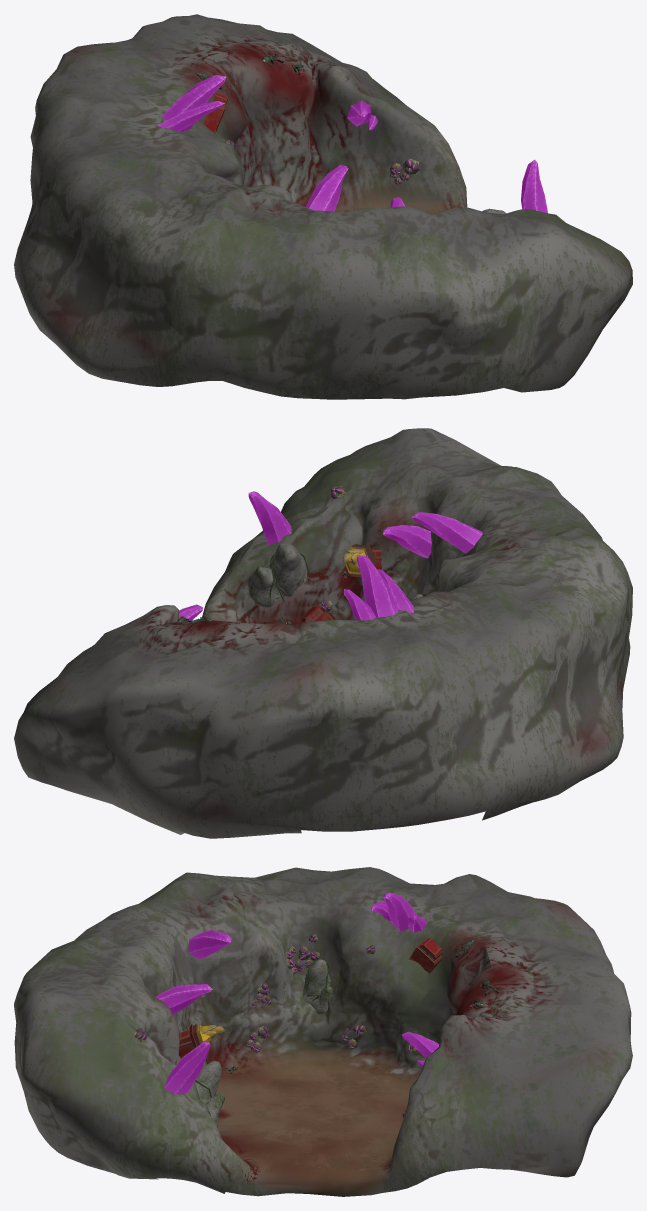
The model's file is Cueva_Oliver.fbx.
The picture shows the model from 3 angles, top to bottom: view 1: azimuth 30°, elevation 25°; view 2: azimuth 150°, elevation 25°; view 3: azimuth 270°, elevation 25°; orthographic projection. The views are drawn at different scales.
Parts seen in each view (by area): view 1: cave_low, cristal high, cristal high.006, cristal high.001, cristal high.005; view 2: cave_low, rock_low, cristal high.006, cristal high, cristal high.001, cristal high.002, Soportorreta_ignore.002; view 3: cave_low, cristal high.001, rock_low, rock_low.001, cristal high.002, cristal high, Soportorreta_ignore.002, cristal high.006, Soportorreta_ignore.003, cristal high.004.
Part boxes in pixels (x1,y1,x2,y2): cave_low: (14, 14, 632, 399); cristal high: (306, 165, 348, 211); cristal high.006: (161, 75, 225, 130); cristal high.001: (521, 159, 547, 213); cristal high.005: (157, 101, 224, 132); cave_low: (14, 428, 632, 838); rock_low: (247, 543, 307, 607); cristal high.006: (356, 555, 398, 617); cristal high: (412, 512, 482, 553); cristal high.001: (248, 491, 291, 545); cristal high.002: (383, 525, 431, 558); Soportorreta_ignore.002: (343, 544, 382, 577); cave_low: (14, 867, 632, 1196); cristal high.001: (164, 1041, 210, 1094); rock_low: (194, 1060, 224, 1127); rock_low.001: (303, 959, 332, 1014); cristal high.002: (156, 984, 212, 1014); cristal high: (188, 929, 231, 959); Soportorreta_ignore.002: (178, 1023, 224, 1058); cristal high.006: (383, 892, 416, 931); Soportorreta_ignore.003: (409, 938, 442, 973); cristal high.004: (402, 1031, 439, 1057).
Size of the model in its own units: 516 by 241 by 672.
